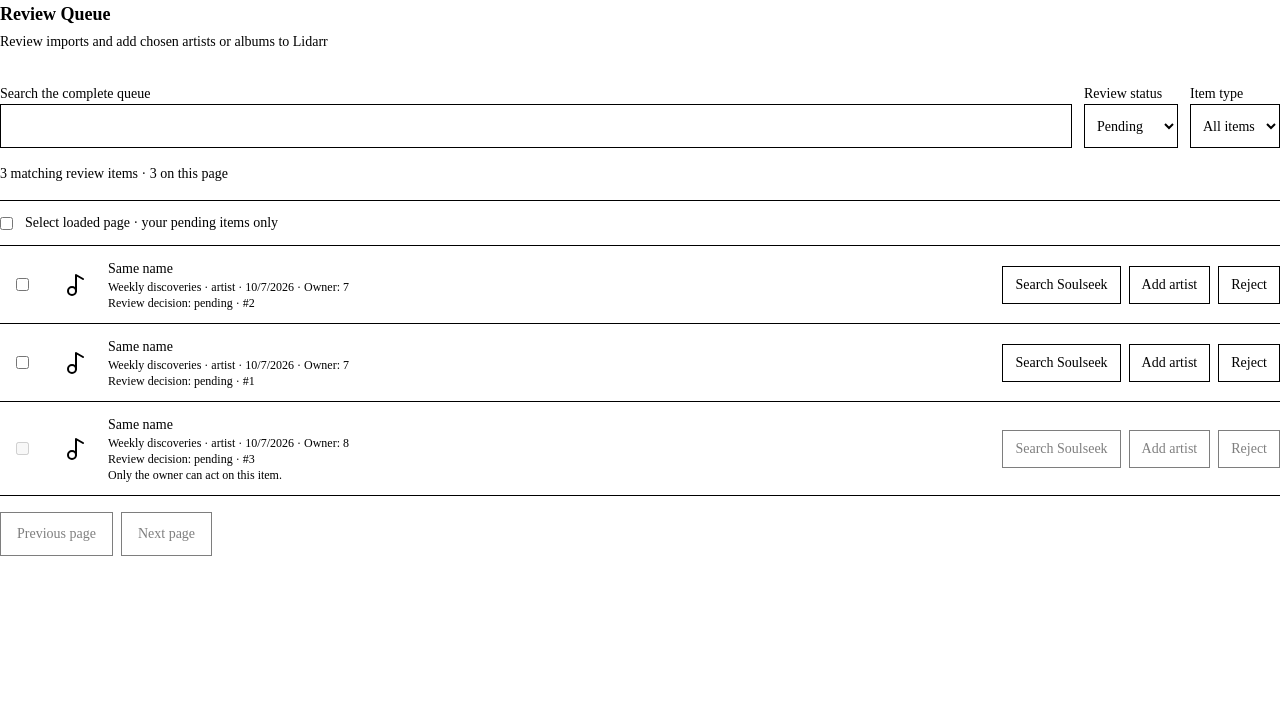
Test: does not resurrect prior-session outcomes when an actor leaves and returns
The image size is (1280, 720).
Expected: the checkbox named "Select review item 2" is enabled, [16,278,28,291]
Click the 1st button "Add artist" at [1169, 284], box [1129,266,1210,304]
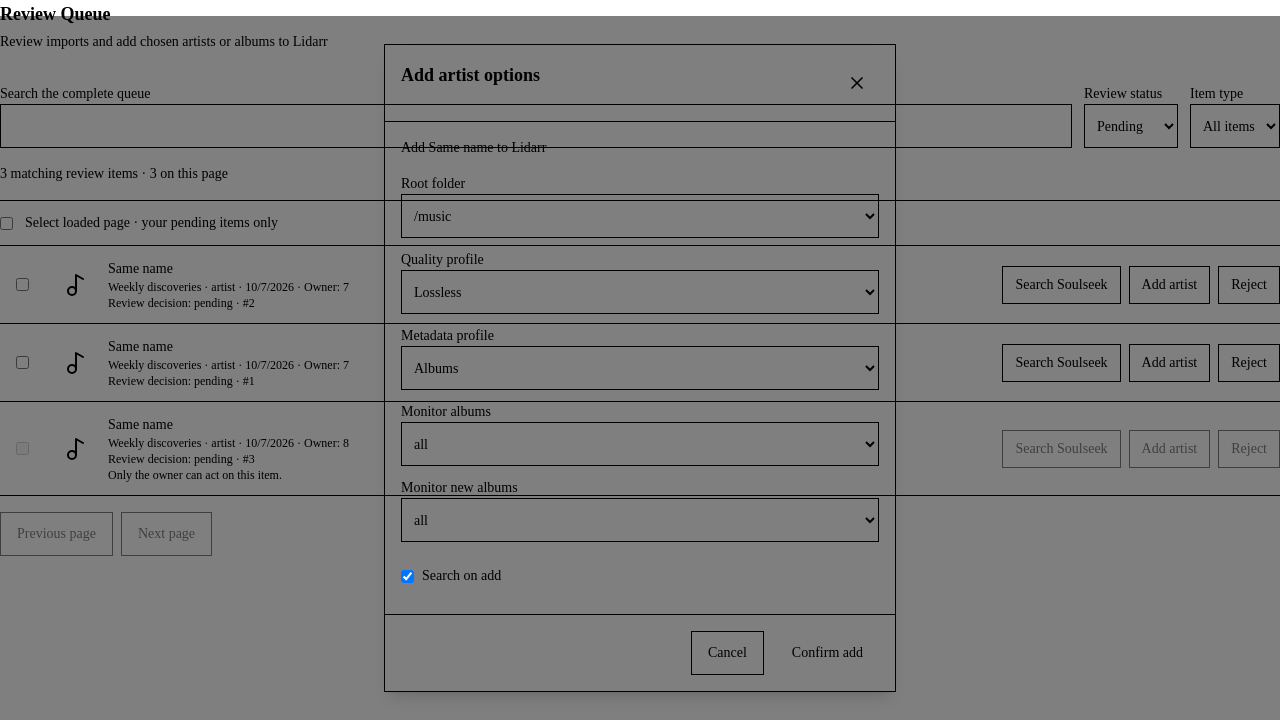
Expected: the dropdown labelled "Root folder" is enabled, [401,194,879,238]
Click the button "Confirm add" at [827, 653], box [776,631,879,675]
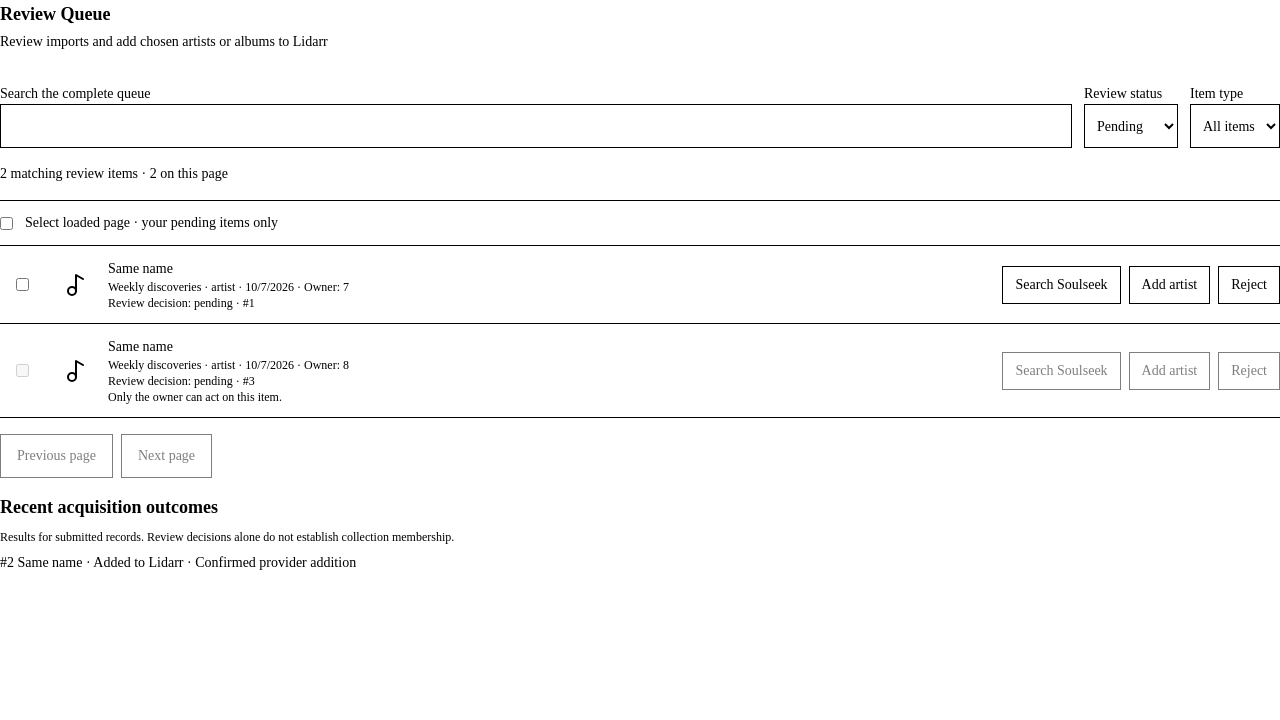
Expected: the text "Added to Lidarr" is shown, [93,555,184,570]
